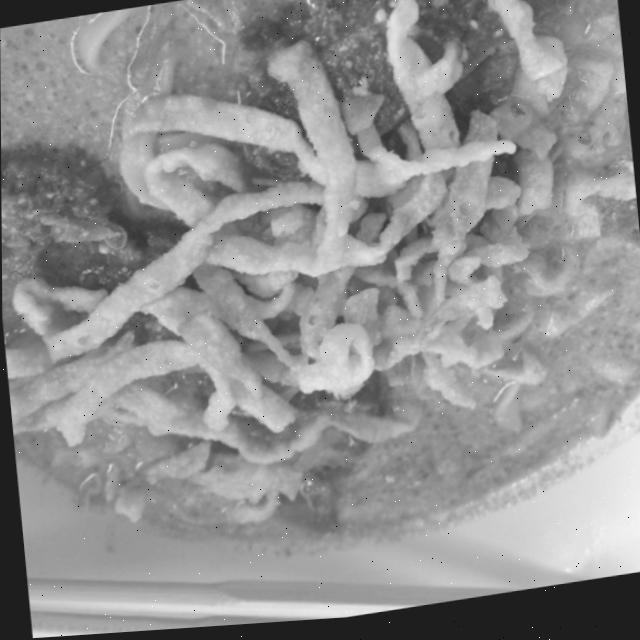面条主食: (12, 0, 640, 615)
